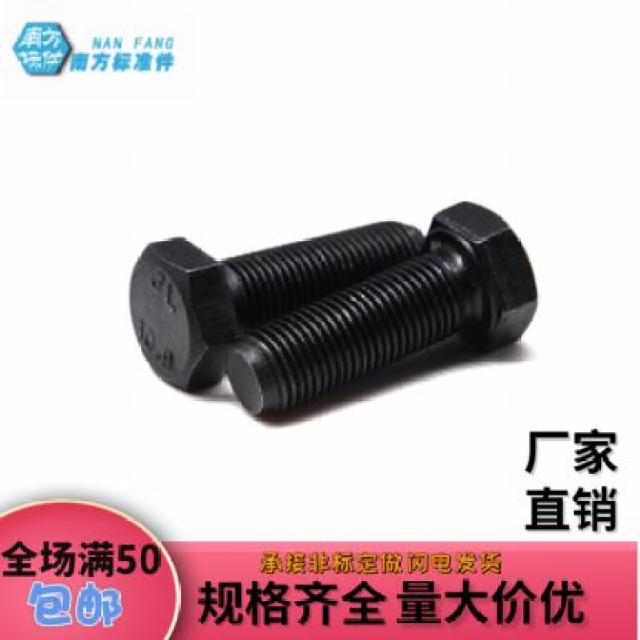Bolt: (225, 200, 542, 422), (127, 218, 423, 394)
